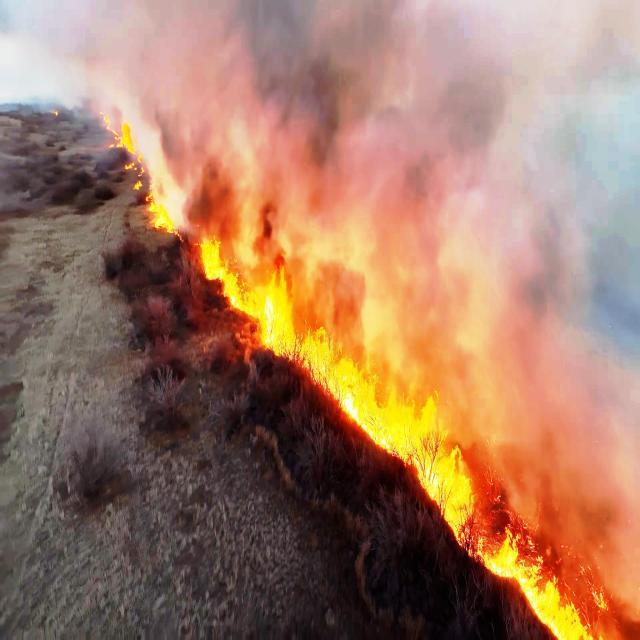Fire: (102, 120, 176, 248), (500, 554, 586, 640), (344, 372, 434, 442), (242, 256, 298, 352), (298, 316, 366, 390), (448, 508, 516, 578), (418, 436, 473, 518), (206, 240, 238, 306)
Smoke: (0, 4, 640, 115), (181, 117, 640, 233), (302, 234, 640, 332), (369, 334, 640, 389), (475, 450, 640, 512), (446, 397, 640, 447), (591, 523, 640, 640)
